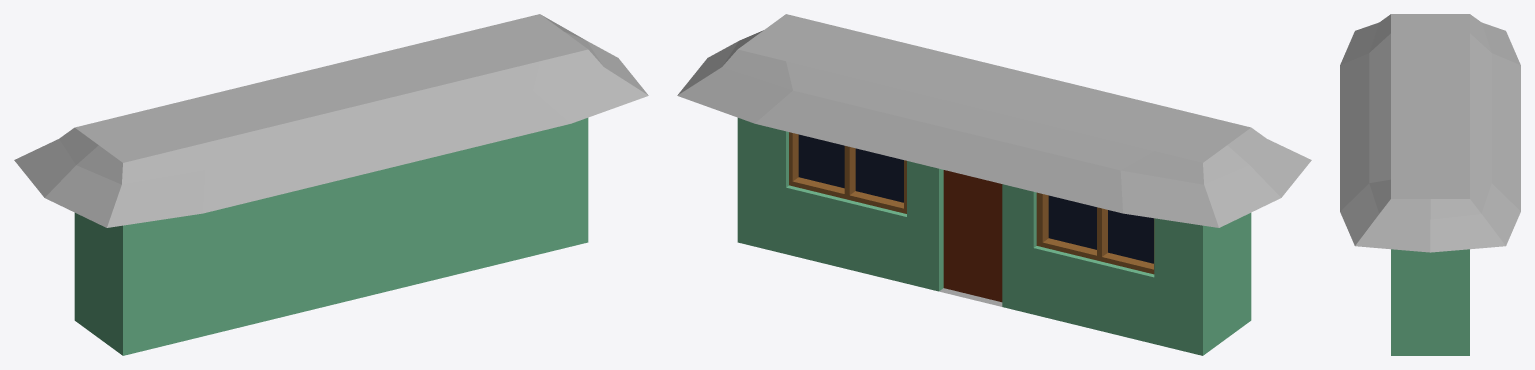
File: house_3.fbx
The picture shows the model from 3 angles, left to right: view 1: azimuth 30°, elevation 25°; view 2: azimuth 150°, elevation 25°; view 3: azimuth 270°, elevation 25°; orthographic projection. The views are drawn at different scales.
Parts seen in each view (by area): view 1: Cubo.001; view 2: Cubo.001; view 3: Cubo.001.
Boxes of the visible parts, x1=… form: Cubo.001: x1=14, y1=14, x2=648, y2=355; Cubo.001: x1=677, y1=14, x2=1311, y2=355; Cubo.001: x1=1340, y1=14, x2=1520, y2=355.
Bounding box in the file's own units: 8678 × 2911 × 2789.
